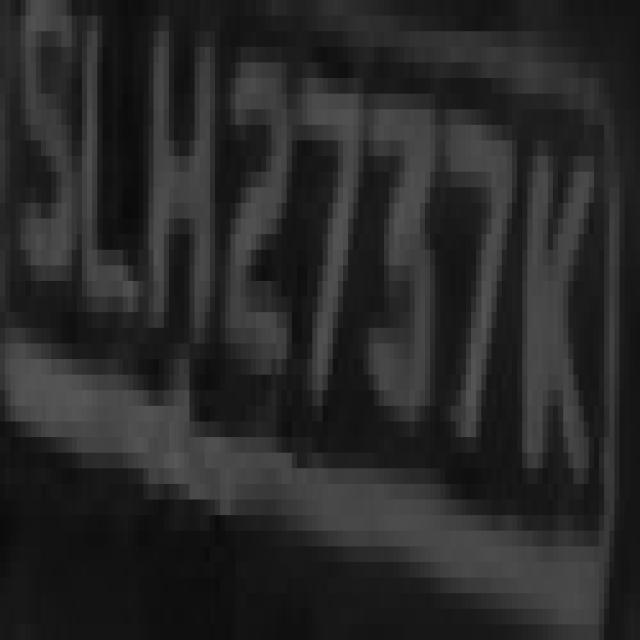2: (215, 0, 297, 468)
3: (369, 31, 435, 531)
7: (435, 47, 517, 546), (292, 16, 374, 468)
H: (138, 16, 220, 437)
K: (512, 47, 604, 531)
L: (77, 16, 148, 390)
S: (5, 31, 82, 406)
